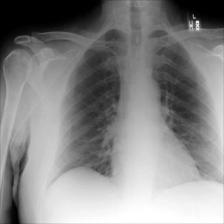normal: (40, 24, 222, 192)
